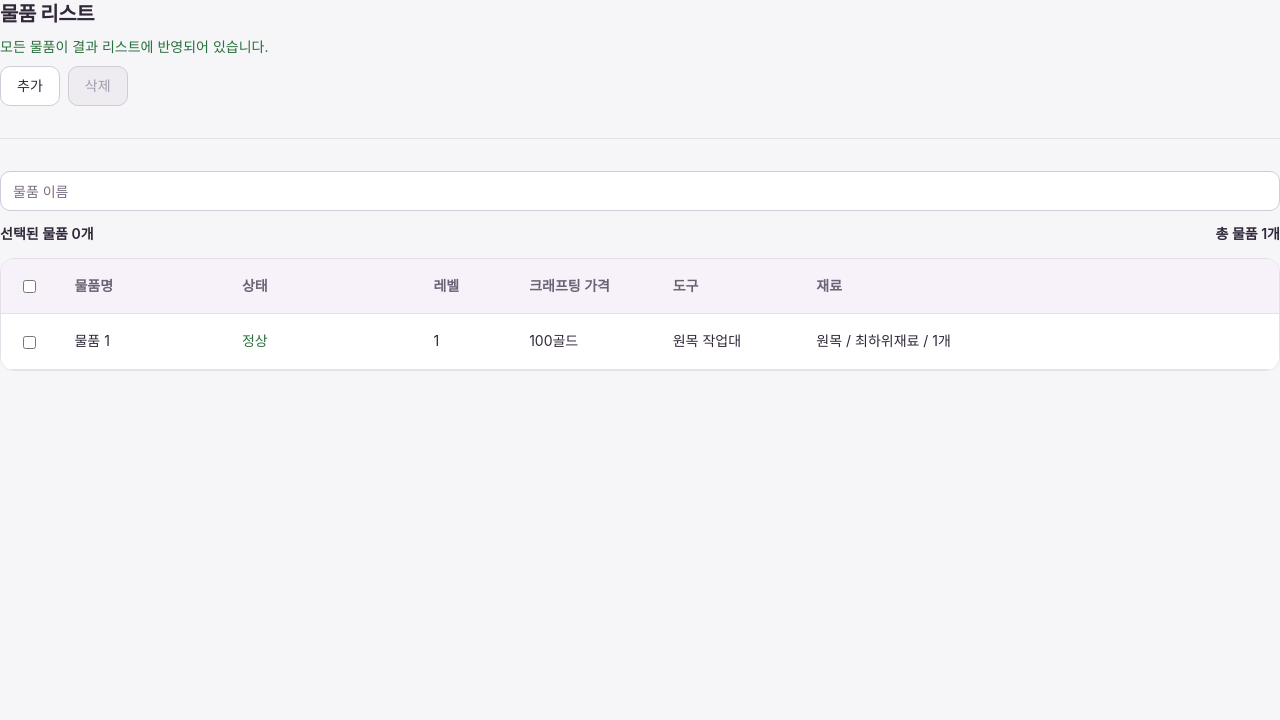
Test: ProductManagePage 결과 연결 › 삭제가 실패하면 서버 메시지를 알림창으로 보여 주고 확인창을 유지한다
The width and height of the screenshot is (1280, 720).
Click the checkbox named "물품 1 선택": click(30, 342) [23,336,36,349]
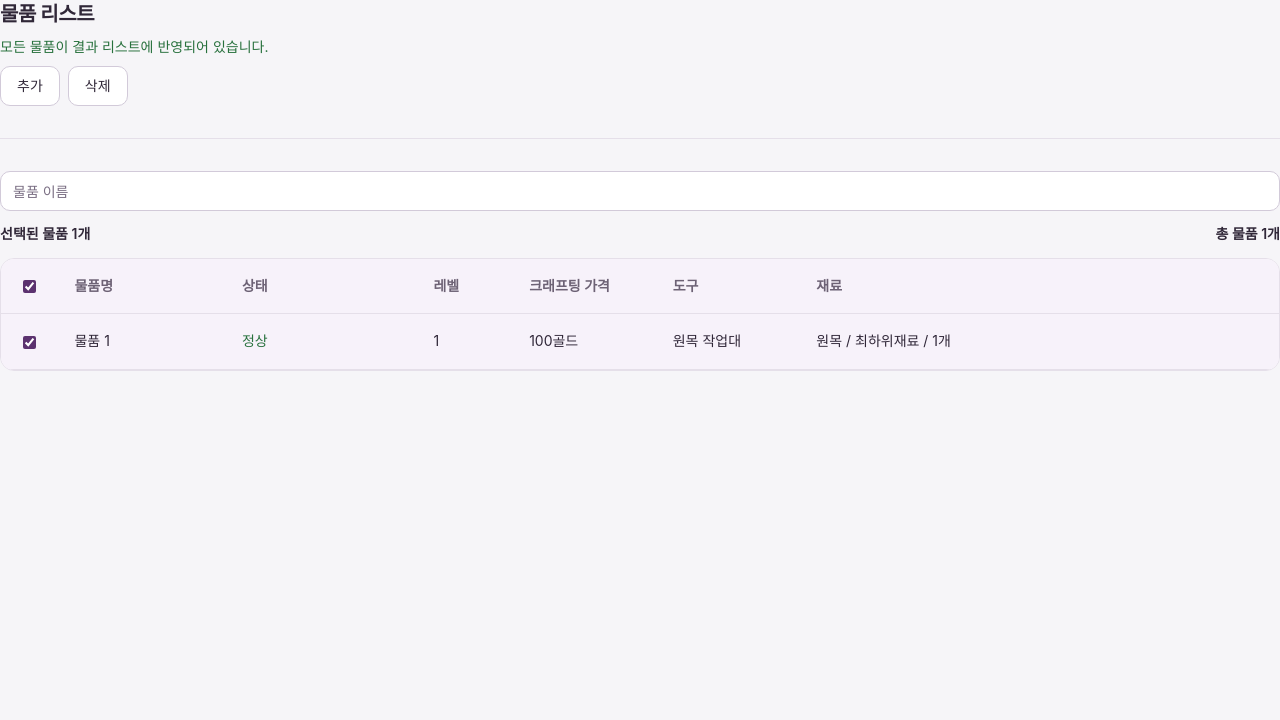
Click the button "삭제": click(98, 86) [68,66,128,106]
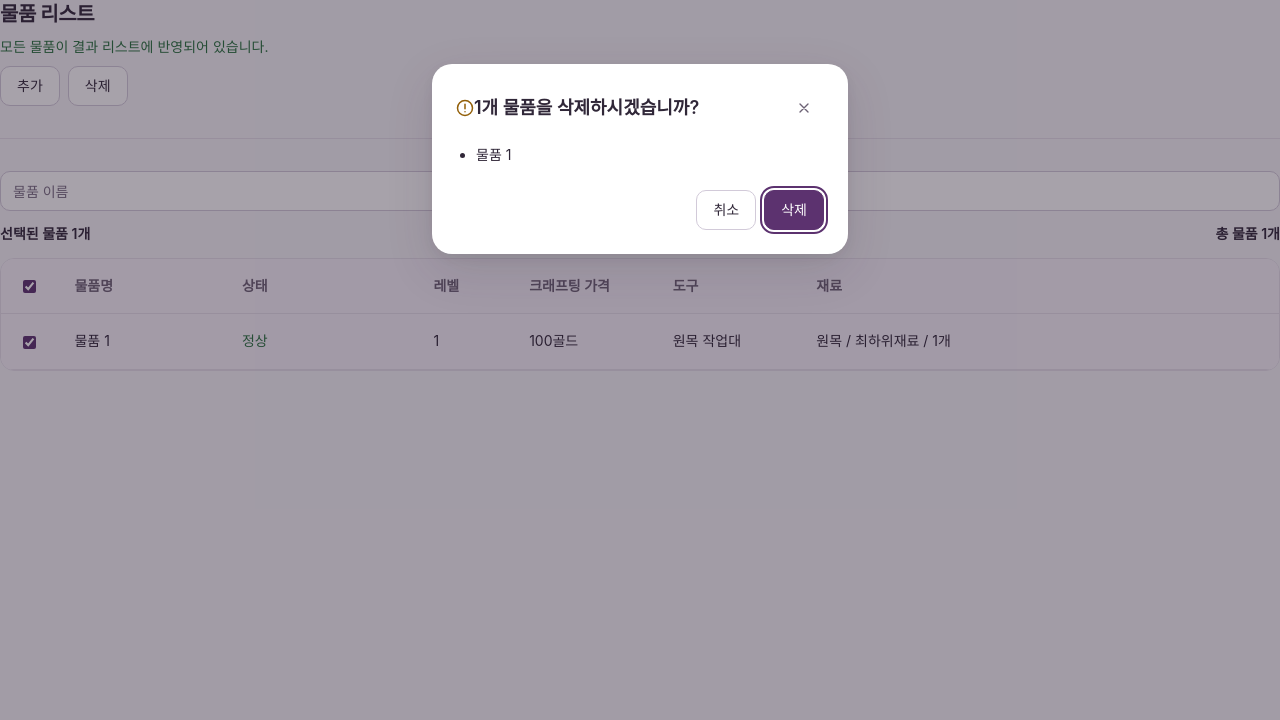
Click the button "삭제": click(794, 210) [764,190,824,230]
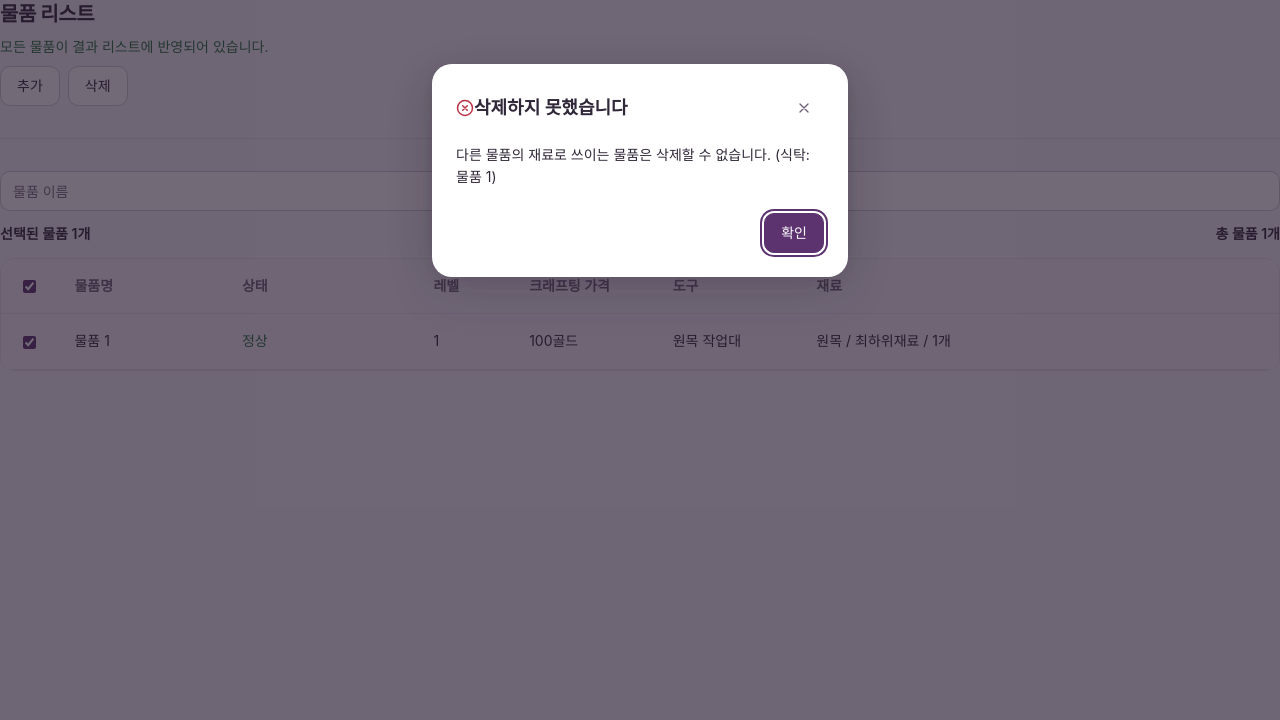
Now the dialog "1개 물품을 삭제하시겠습니까?" is shown, box [432,64,848,254]
Now the dialog "삭제하지 못했습니다" shows "다른 물품의 재료로 쓰이는 물품은 삭제할 수 없습니다. (식탁: 물품 1)", box [456,146,810,185]
